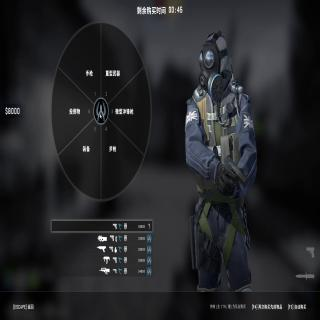CT-Body: (185, 30, 256, 291)
CT-Head: (197, 32, 228, 94)
